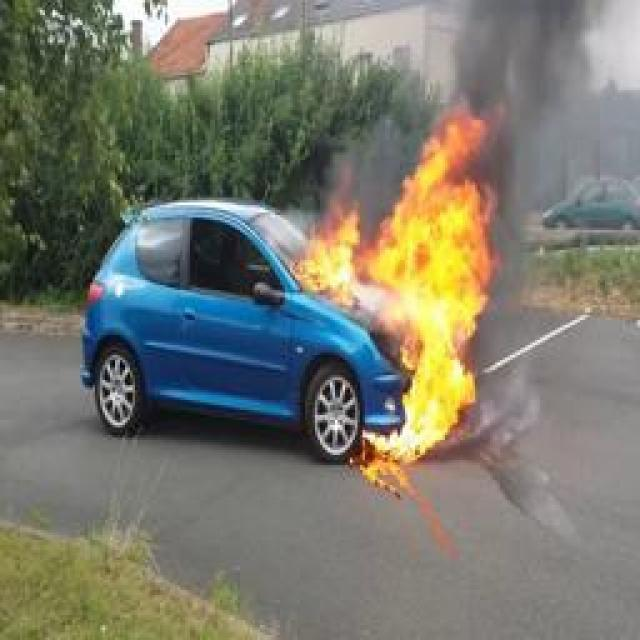Fire: (291, 111, 504, 464)
